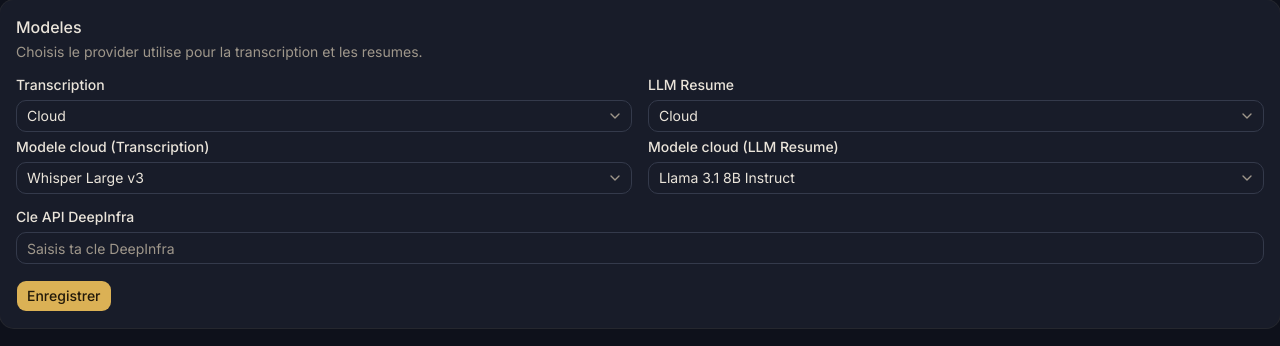
Test: <ModelSettingsCard> › rend le selecteur de modele cloud uniquement quand Cloud est selectionne
The image size is (1280, 346).
Expected: the dropdown named "modele cloud (transcription)" is shown, 16,162 -> 632,194
Expected: the dropdown named "modele cloud (llm resume)" is shown, 648,162 -> 1264,194
Click the dropdown named "Transcription" at (46, 116), box 16,100 -> 632,132
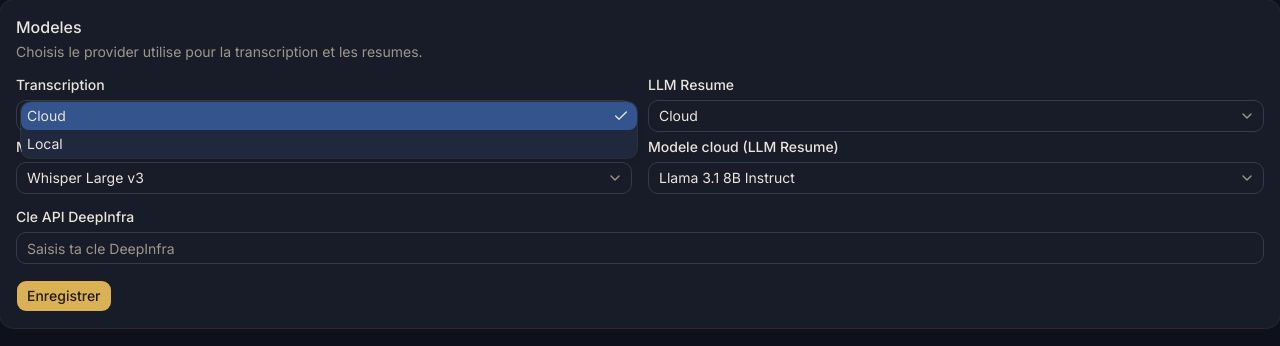
Click the option "Local" at (45, 144), box 27,135 -> 63,152
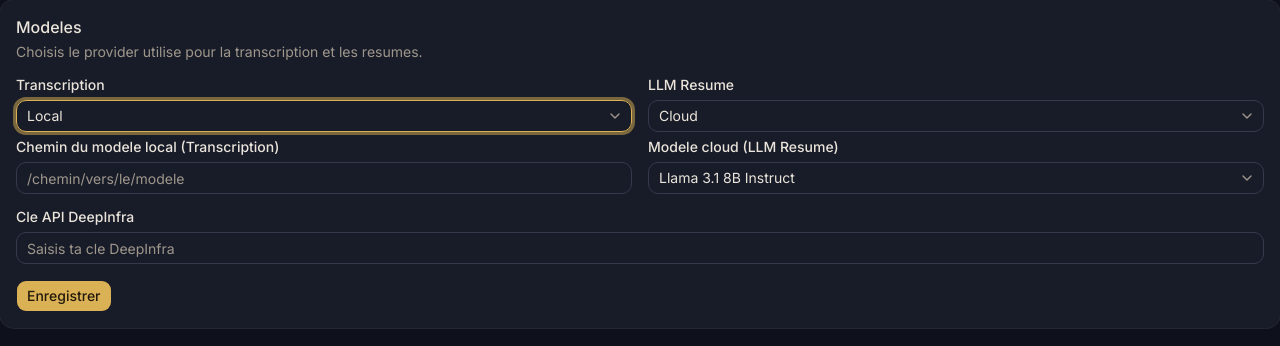
Expected: the label labelled "Modele cloud (Transcription)" is gone
Expected: the field labelled "Chemin du modele local (Transcription)" is shown, 16,162 -> 632,194
